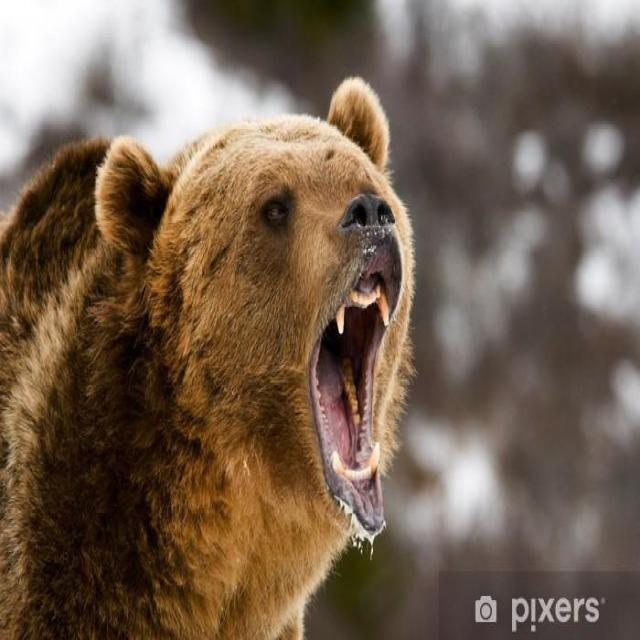Bear: (0, 77, 416, 640)
